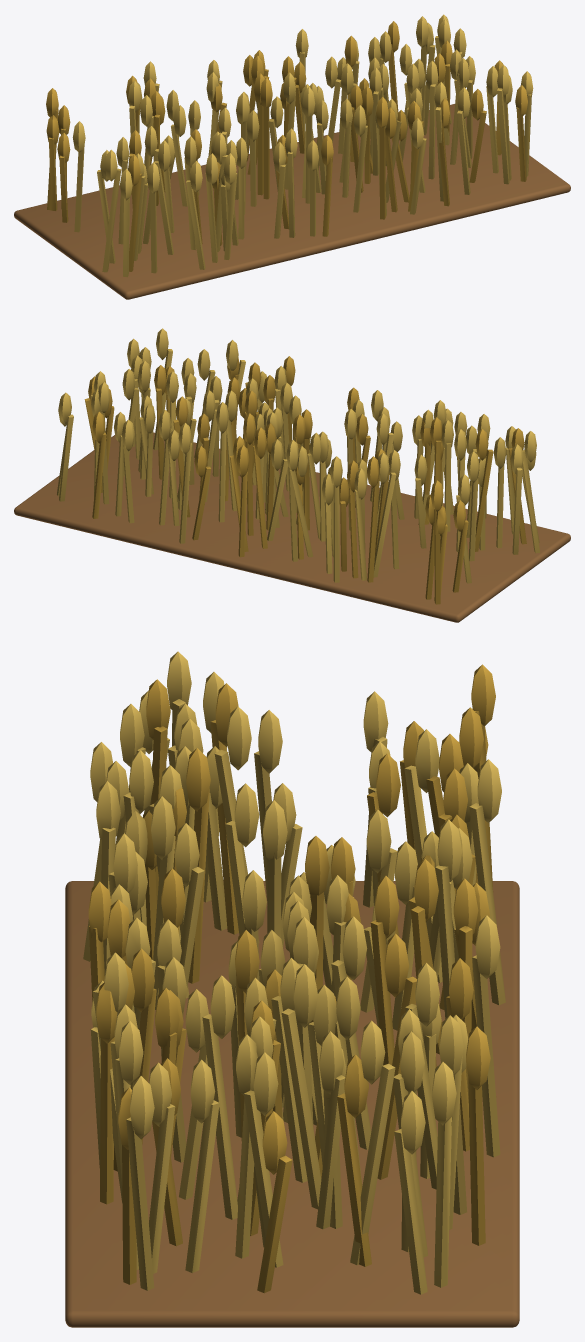
File: wheat.glb
The picture shows the model from 3 angles, top to bottom: view 1: azimuth 30°, elevation 25°; view 2: azimuth 150°, elevation 25°; view 3: azimuth 270°, elevation 25°; orthographic projection. The views are drawn at different scales.
Visible parts, largest first — view 1: wheat; view 2: wheat; view 3: wheat.
Boxes of the visible parts, bbox=[...] form: wheat: bbox=[14, 14, 570, 299]; wheat: bbox=[14, 328, 570, 622]; wheat: bbox=[65, 651, 519, 1327].
Bounding box in the file's own units: 6.8 × 1.91 × 3.
